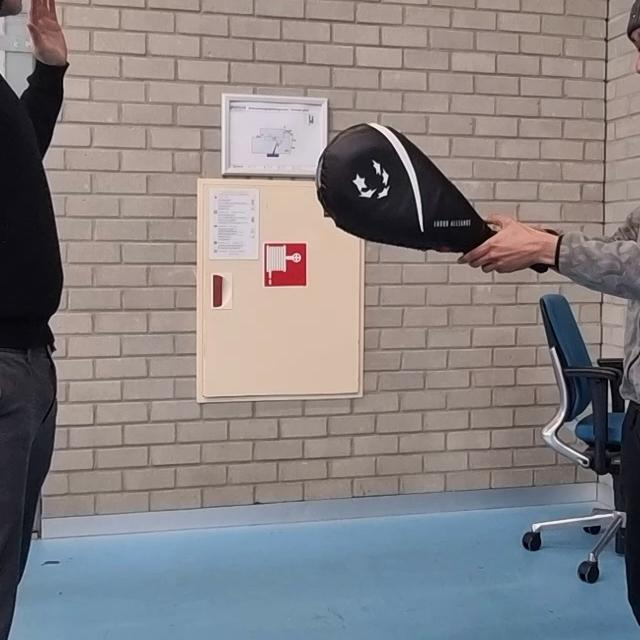paddle: (317, 123, 499, 254)
